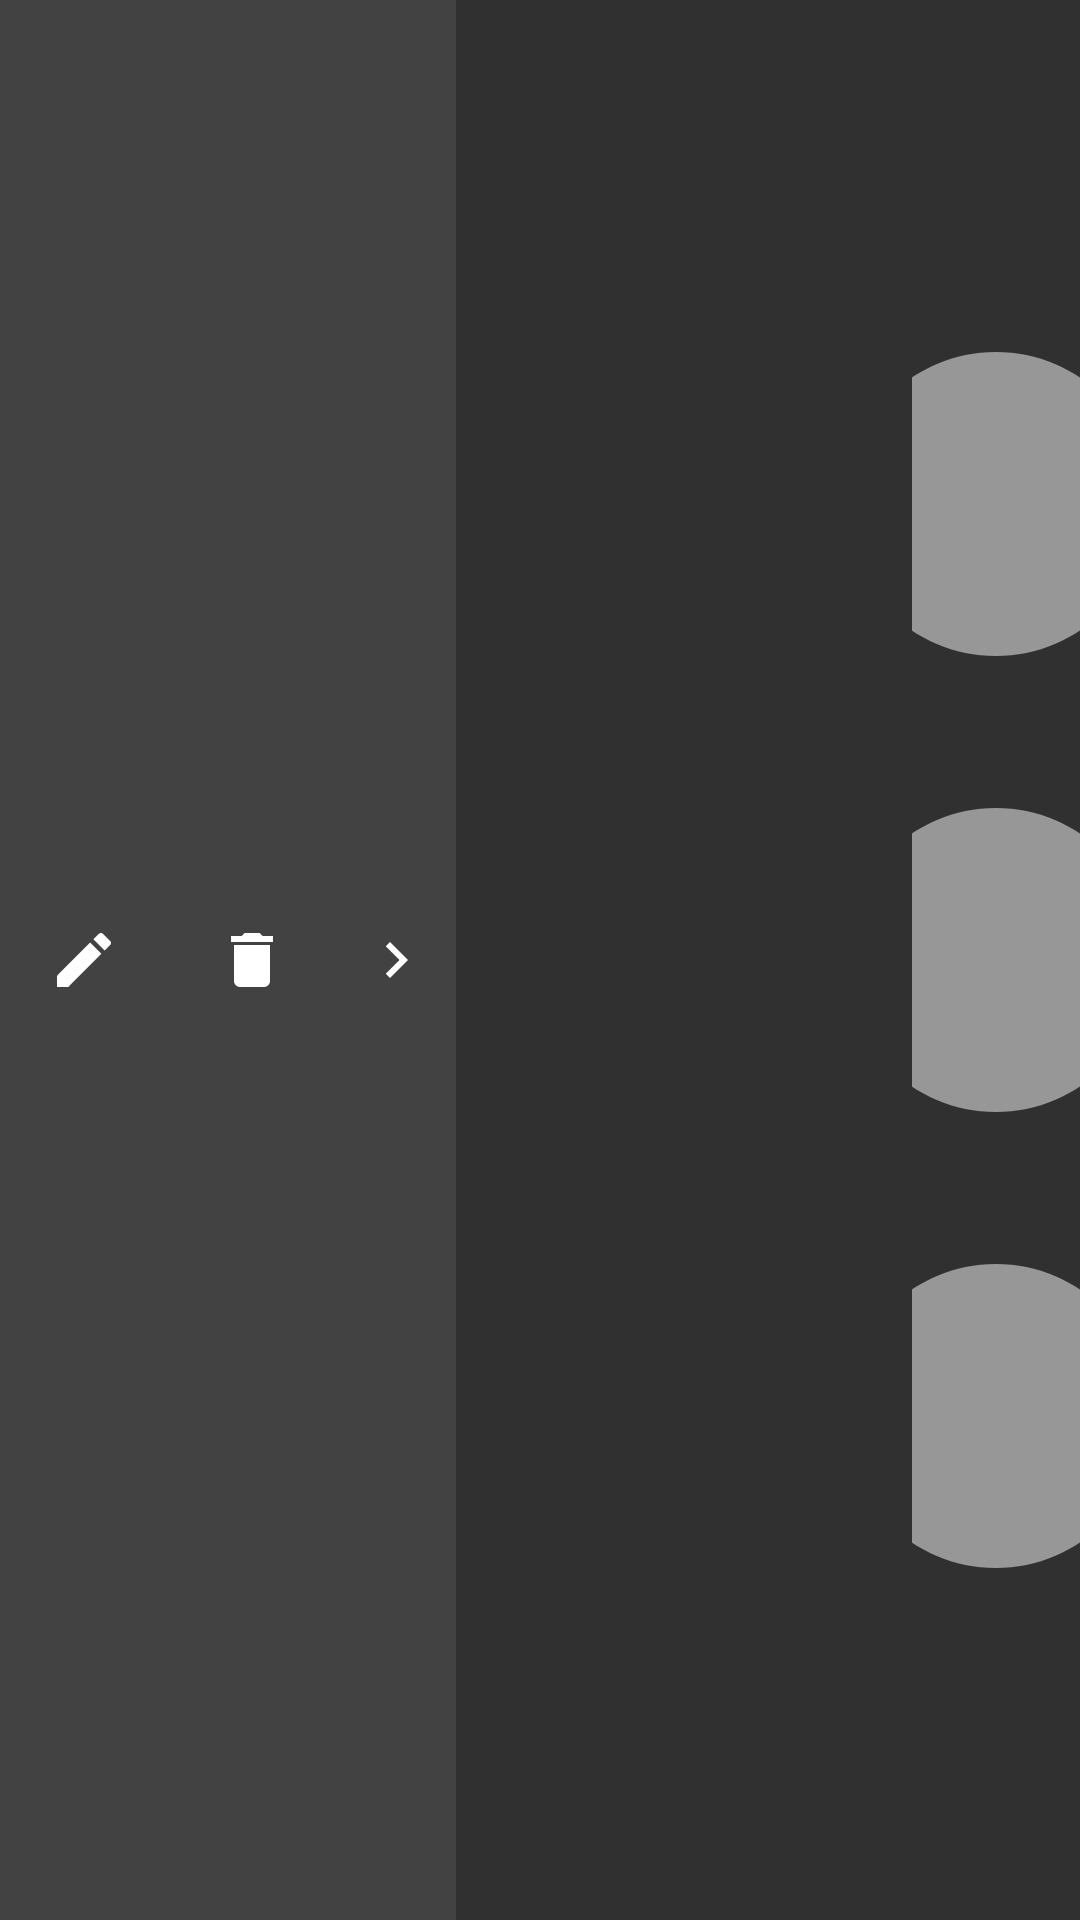

Named icons in this screenshot (1080*1920) and their centers, [x,y]:
chevron right: [397,960]
rename: [84,960]
trash: [252,960]
